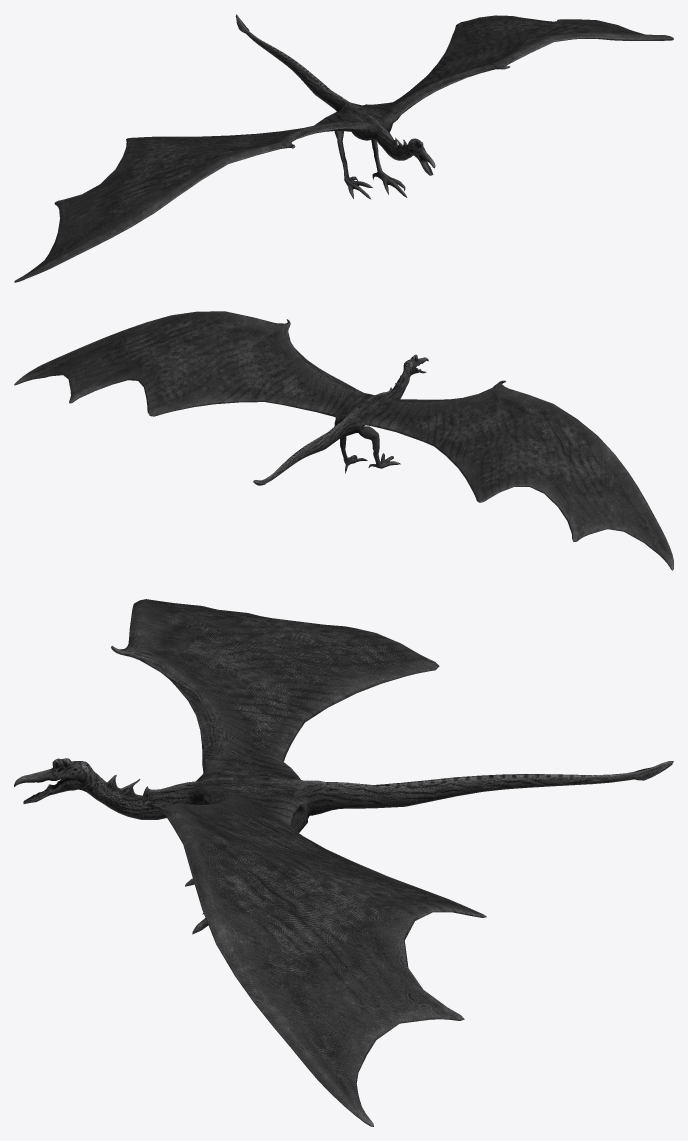
File: Fellbeast_Animate_Grab_Glide_34.obj
The picture shows the model from 3 angles, top to bottom: view 1: azimuth 30°, elevation 25°; view 2: azimuth 150°, elevation 25°; view 3: azimuth 270°, elevation 25°; orthographic projection. The views are drawn at different scales.
Visible parts, largest first — view 1: Fellbeast; view 2: Fellbeast; view 3: Fellbeast.
Boxes of the visible parts, x1,y1,x2,y2 form: Fellbeast: (14, 14, 673, 282); Fellbeast: (14, 311, 673, 570); Fellbeast: (14, 599, 673, 1126).
Size of the model in its own units: 8.97 by 1.73 by 4.39.
